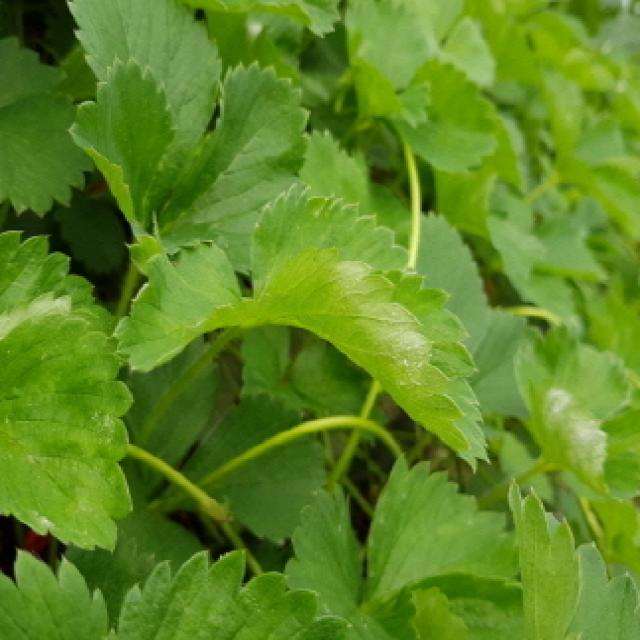Powdery Mildew Leaf: (111, 184, 494, 474), (0, 231, 135, 554), (513, 336, 640, 502)
